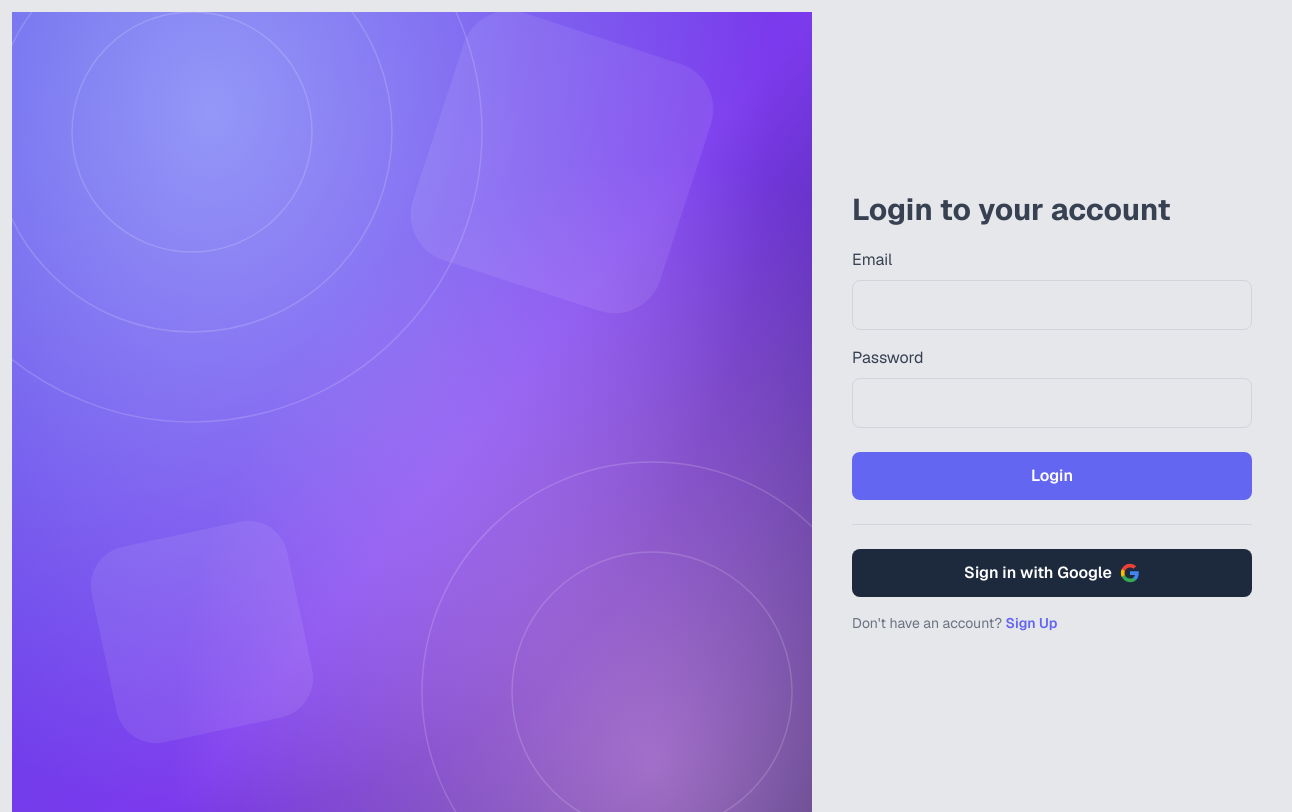
Test: Página /authentication › validações do formulário › exige email no login
The image size is (1292, 812).
Click the button "Login": (1052, 476) [852,452,1252,500]
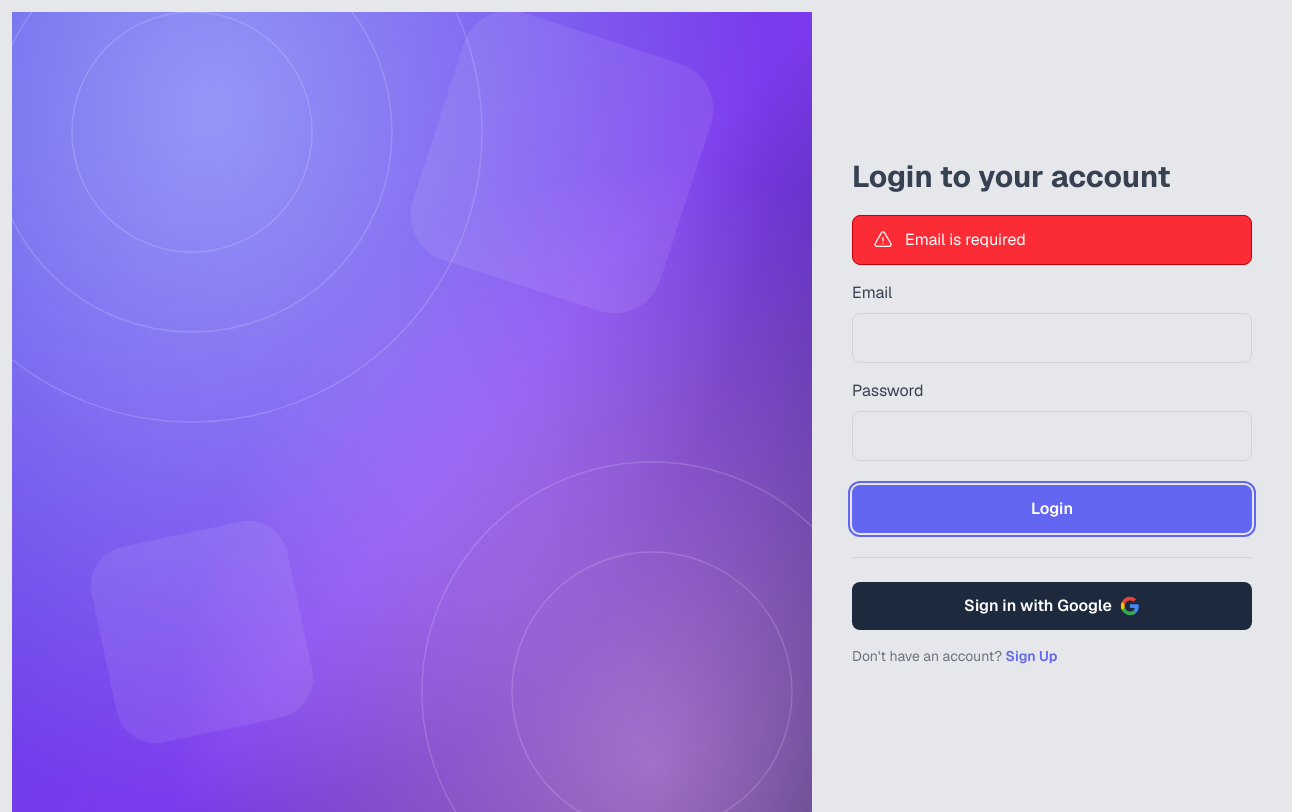
Now the text "Email is required" is shown, box [905,228,1026,252]
